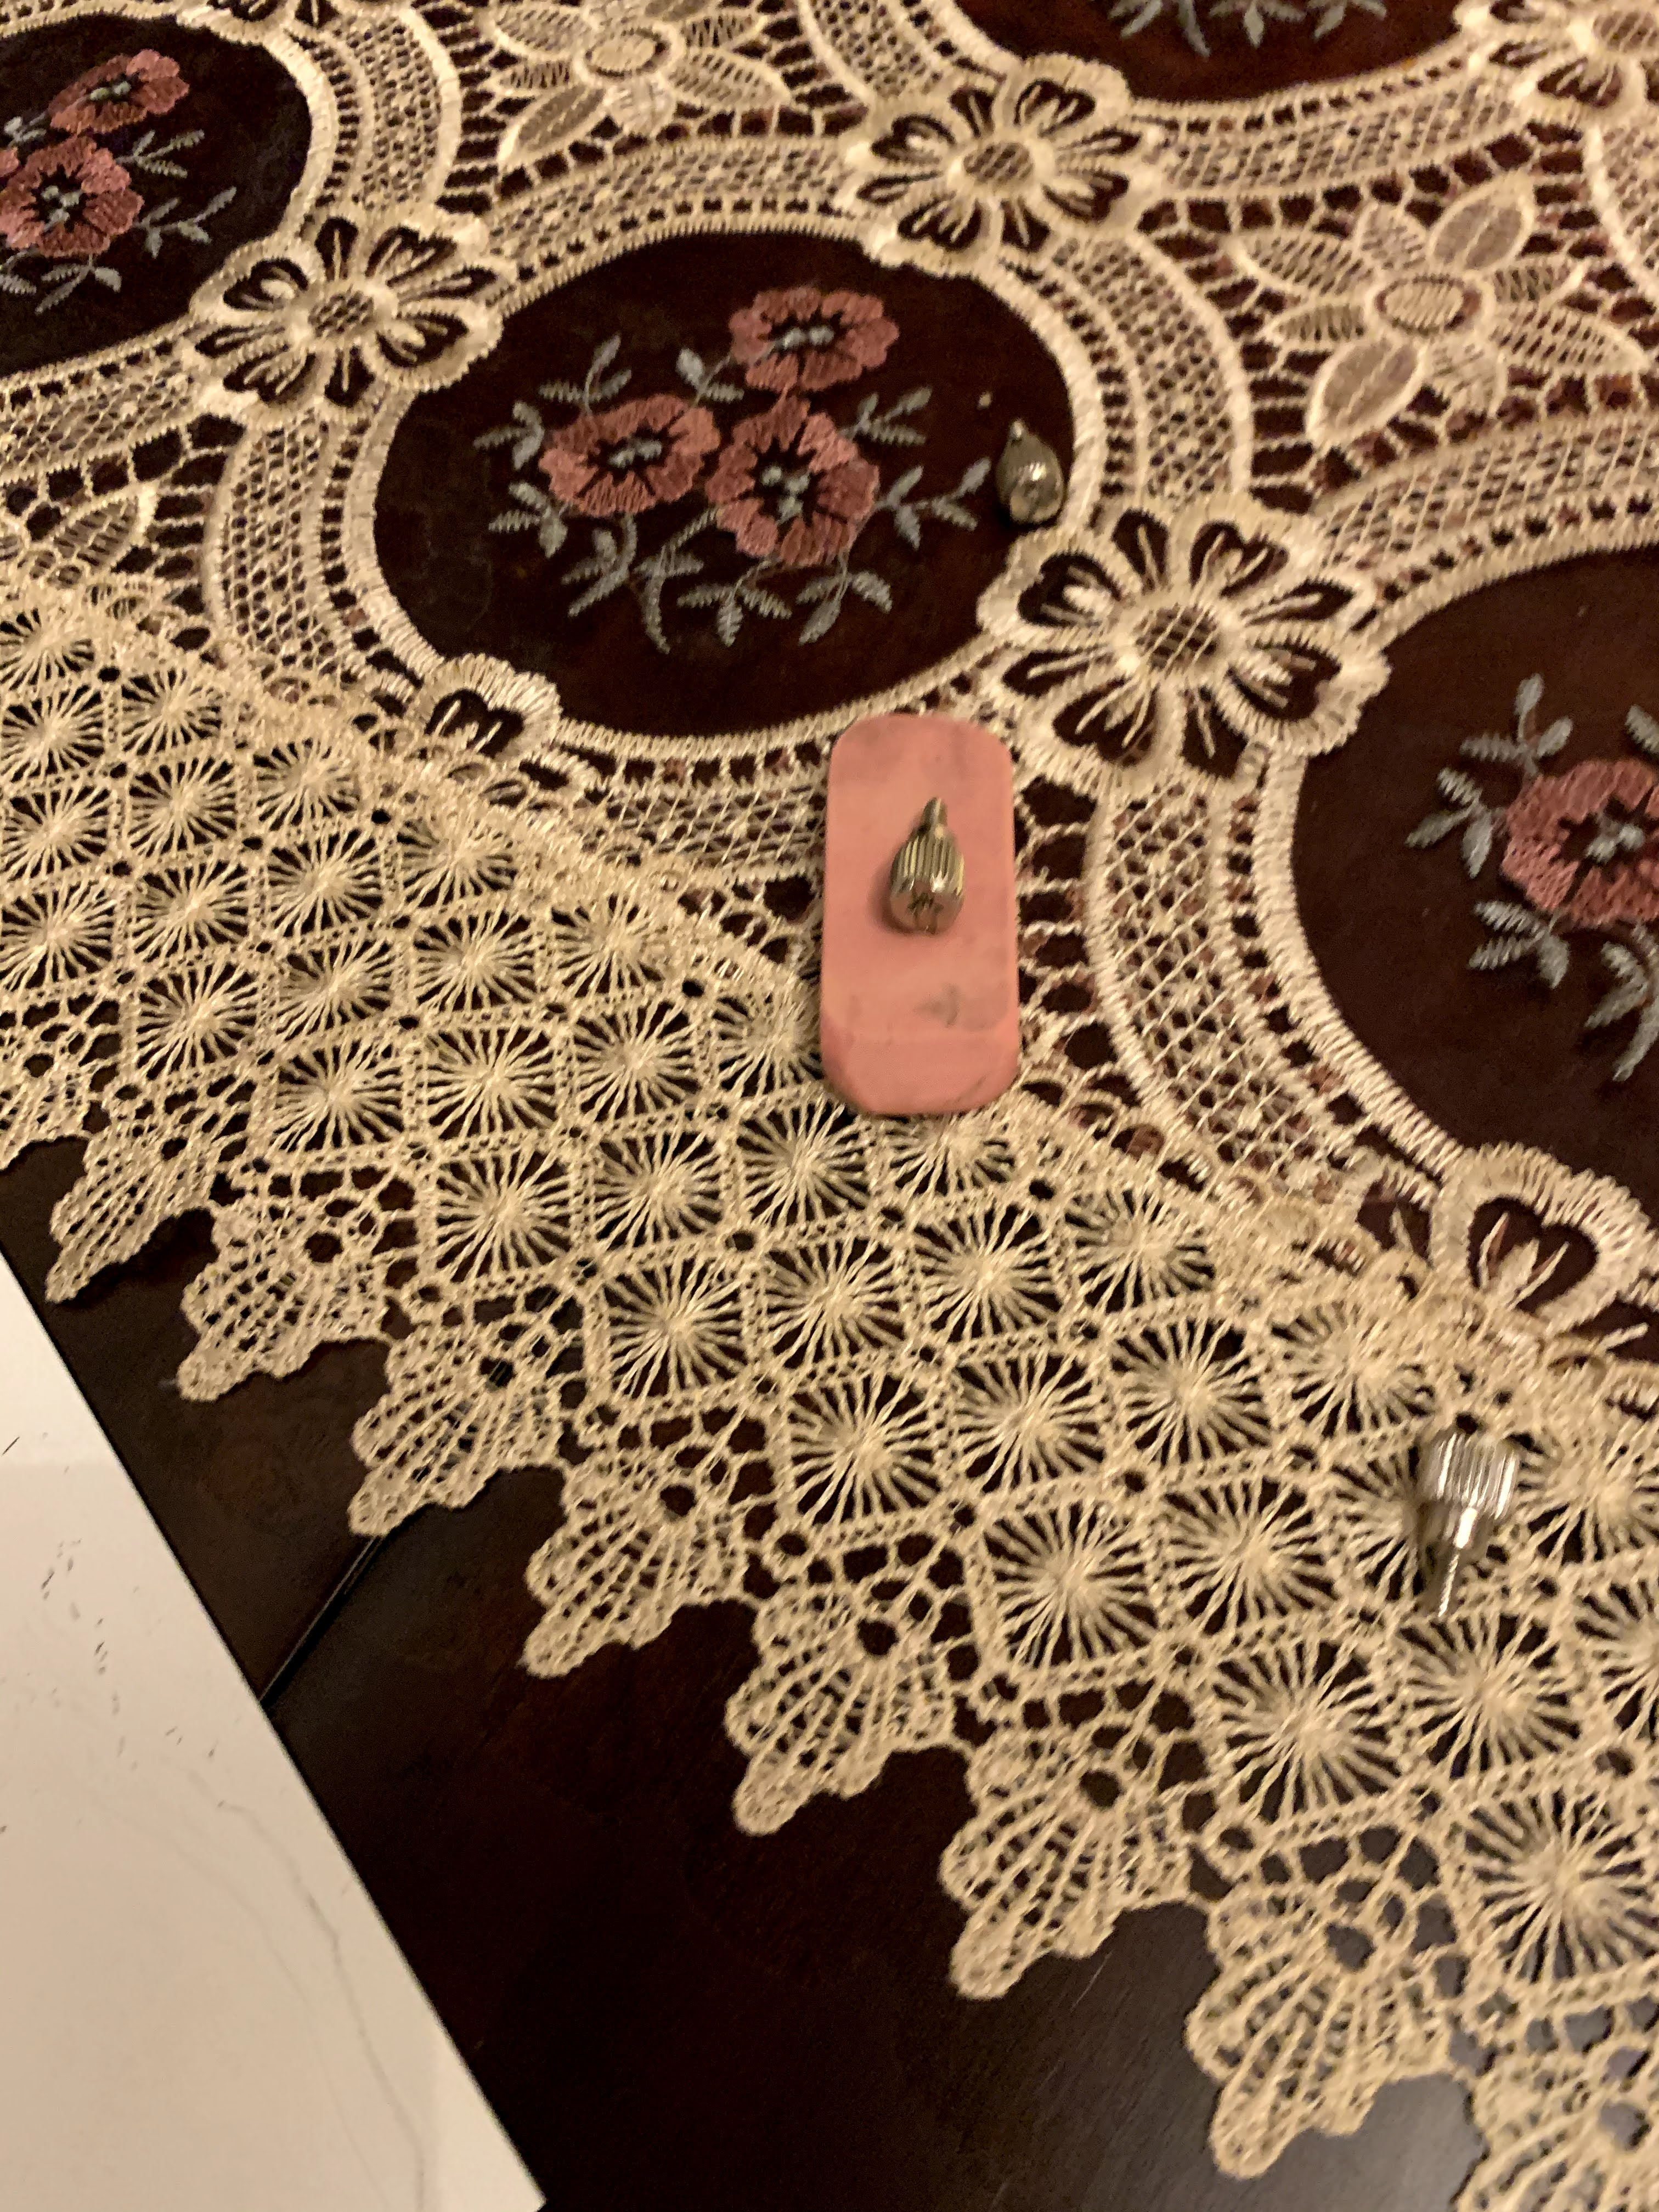Space-debris-small: (1394, 1416, 1527, 1623), (873, 784, 972, 949)
